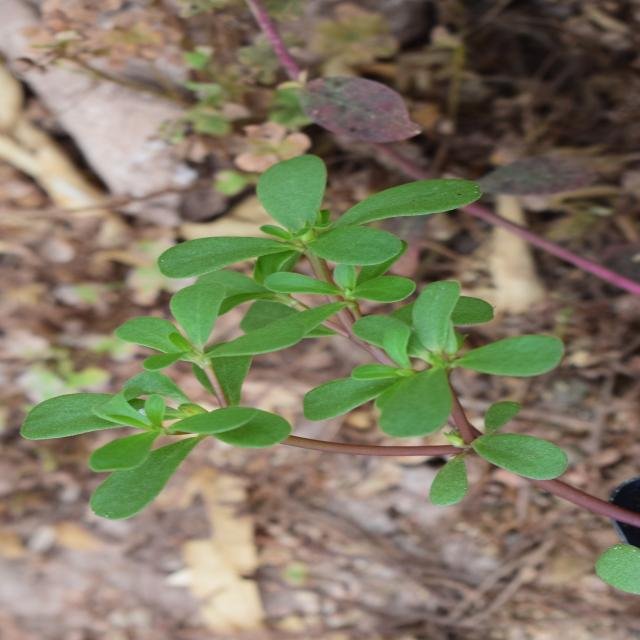purslane: (112, 36, 480, 528)
